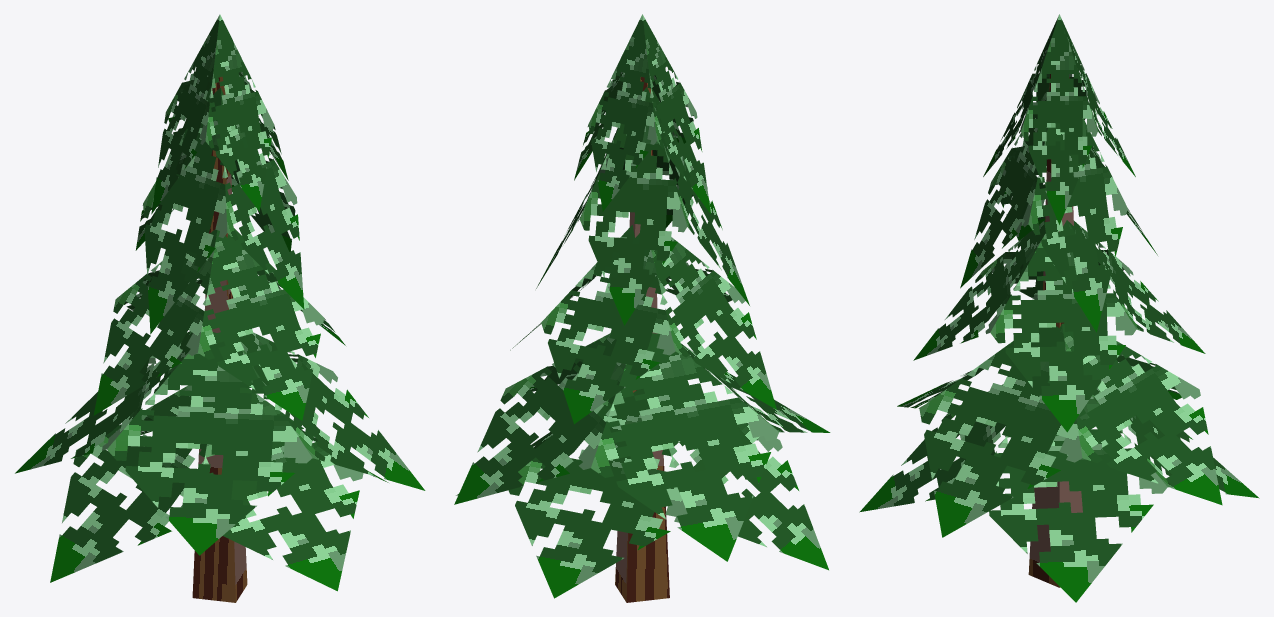
File: Tree.gltf
The picture shows the model from 3 angles, left to right: view 1: azimuth 30°, elevation 25°; view 2: azimuth 150°, elevation 25°; view 3: azimuth 270°, elevation 25°; orthographic projection. The views are drawn at different scales.
Parts seen in each view (by area): view 1: Cube; view 2: Cube; view 3: Cube.
Boxes of the visible parts, left/top/right/bottom form: Cube: left=15, top=14, right=425, bottom=602; Cube: left=454, top=14, right=830, bottom=602; Cube: left=859, top=14, right=1259, bottom=602.
Bounding box in the file's own units: 7.35 × 11.37 × 7.35.
1 material, 1 textured.
